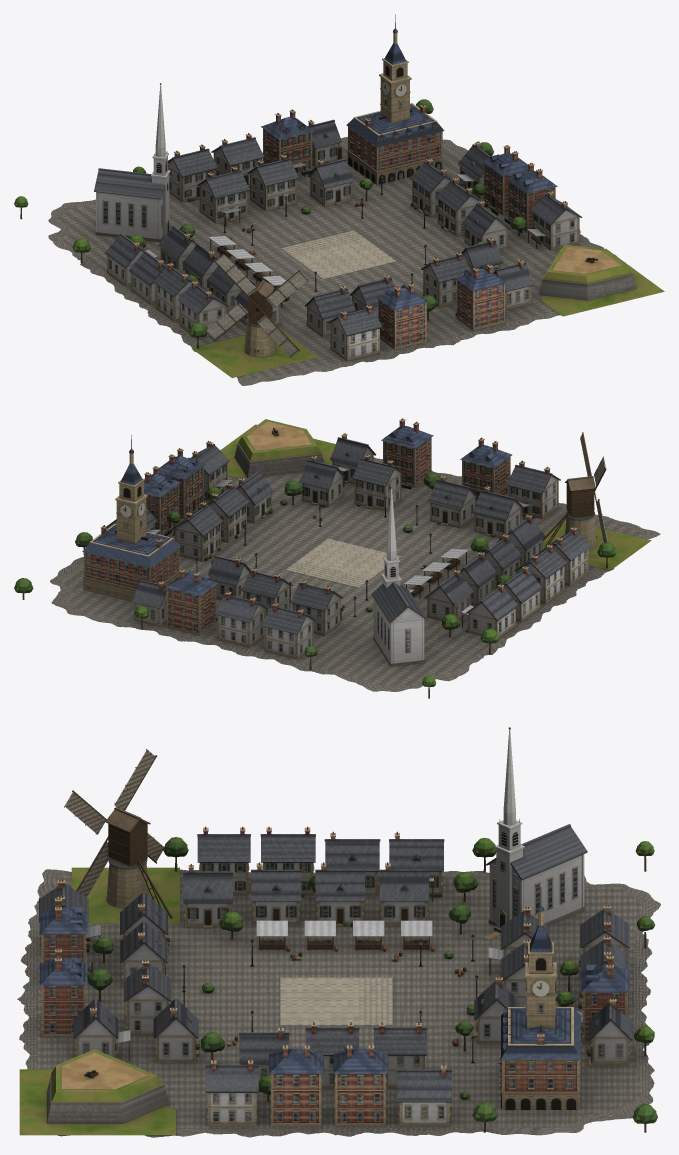
The model's file is gunpowder-town-big-b-colonies.glb.
3 renders of one model, top to bottom at view 1: azimuth 30°, elevation 25°; view 2: azimuth 150°, elevation 25°; view 3: azimuth 270°, elevation 25°, orthographic. The views are drawn at different scales.
Parts seen in each view (by area): view 1: LOD0; view 2: LOD0; view 3: LOD0.
Part boxes in pixels (<box>): LOD0: <box>14,14,664,385</box>; LOD0: <box>14,418,660,698</box>; LOD0: <box>17,727,660,1137</box>.
Size of what is drawn, in the model's own units: 8.05 by 2.8 by 8.12.
Materials: 3 (3 with a texture image).
